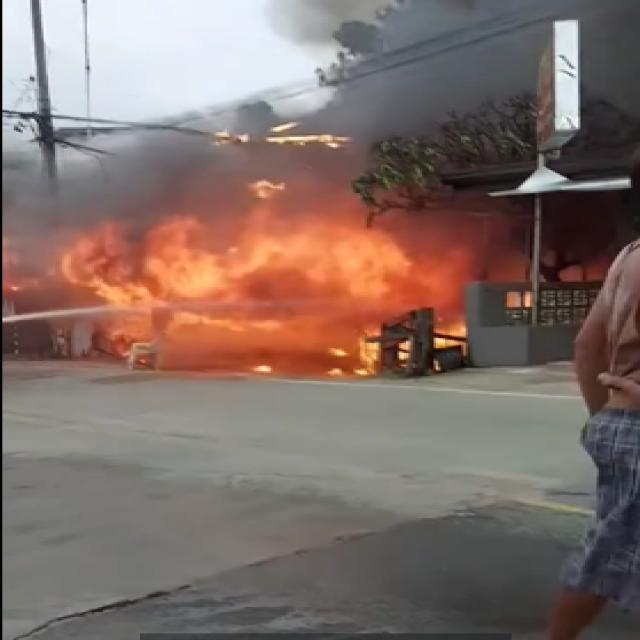Fire: (77, 208, 467, 368)
Smoke: (298, 0, 529, 115)
